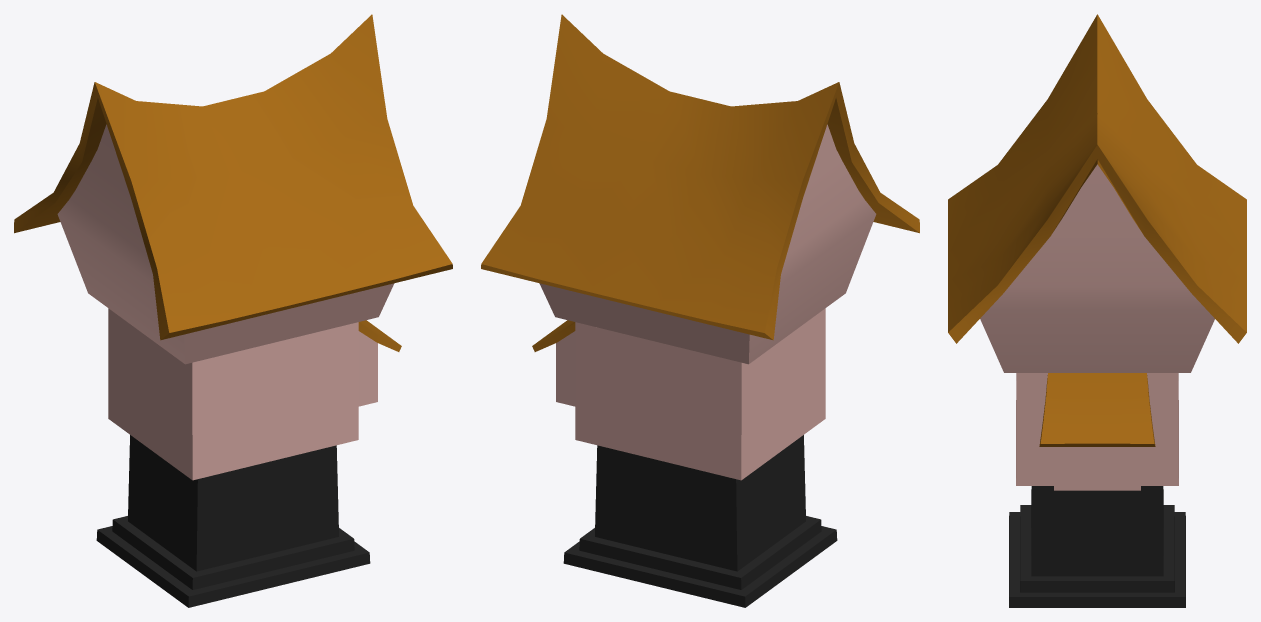
Rendered from CasaManutentore3lvl.FBX.
The picture shows the model from 3 angles, left to right: view 1: azimuth 30°, elevation 25°; view 2: azimuth 150°, elevation 25°; view 3: azimuth 270°, elevation 25°; orthographic projection. The views are drawn at different scales.
Visible parts, largest first — view 1: Object004; view 2: Object004; view 3: Object004.
Part boxes in pixels (bbox=[...]): Object004: bbox=[14, 14, 452, 607]; Object004: bbox=[481, 14, 919, 607]; Object004: bbox=[948, 14, 1246, 607].
Size of the model in its own units: 0.9779 by 1.61 by 0.8977.
